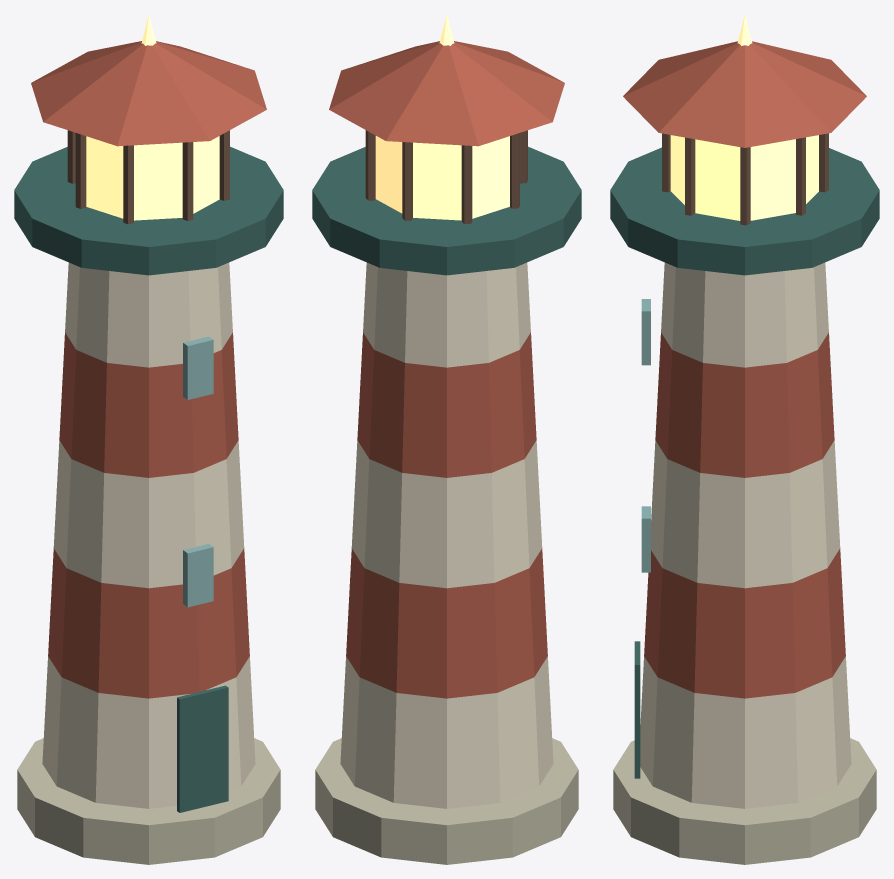
File: beacon.glb
The picture shows the model from 3 angles, left to right: view 1: azimuth 30°, elevation 25°; view 2: azimuth 150°, elevation 25°; view 3: azimuth 270°, elevation 25°; orthographic projection.
Visible parts, largest first — view 1: Lighthouse band_1, Lighthouse band_2, Balcony platform, Lighthouse band_3, Lantern roof, Lighthouse band_0, Octagonal base, Lighthouse band_4, Lantern glass, Tower door, Tower window, Tower window.001 (+4 smaller); view 2: Lighthouse band_0, Lighthouse band_1, Lighthouse band_2, Lighthouse band_3, Balcony platform, Lantern roof, Octagonal base, Lighthouse band_4, Lantern glass, Lantern post.003, Lantern post.002, Lantern post.001 (+1 smaller); view 3: Lighthouse band_0, Lighthouse band_1, Lighthouse band_2, Lighthouse band_3, Balcony platform, Lantern roof, Octagonal base, Lighthouse band_4, Lantern glass, Tower door, Lantern post, Lantern post.007 (+5 smaller).
Boxes of the visible parts, x1=… form: Lighthouse band_1: x1=48, y1=548, x2=249, y2=698; Lighthouse band_2: x1=53, y1=440, x2=244, y2=588; Balcony platform: x1=14, y1=146, x2=283, y2=275; Lighthouse band_3: x1=59, y1=332, x2=238, y2=477; Lantern roof: x1=31, y1=41, x2=266, y2=146; Lighthouse band_0: x1=42, y1=656, x2=255, y2=808; Octagonal base: x1=17, y1=738, x2=280, y2=864; Lighthouse band_4: x1=65, y1=262, x2=232, y2=367; Lantern glass: x1=86, y1=136, x2=219, y2=220; Tower door: x1=177, y1=685, x2=228, y2=812; Tower window: x1=183, y1=544, x2=213, y2=607; Tower window.001: x1=183, y1=336, x2=213, y2=399; Lighthouse band_0: x1=340, y1=656, x2=553, y2=808; Lighthouse band_1: x1=346, y1=548, x2=547, y2=698; Lighthouse band_2: x1=351, y1=440, x2=542, y2=588; Lighthouse band_3: x1=357, y1=332, x2=536, y2=477; Balcony platform: x1=312, y1=146, x2=581, y2=275; Lantern roof: x1=329, y1=41, x2=564, y2=146; Octagonal base: x1=315, y1=738, x2=578, y2=864; Lighthouse band_4: x1=363, y1=262, x2=530, y2=367; Lantern glass: x1=375, y1=136, x2=509, y2=220; Lantern post.003: x1=461, y1=145, x2=472, y2=223; Lantern post.002: x1=402, y1=142, x2=412, y2=220; Lantern post.001: x1=365, y1=130, x2=375, y2=200; Lighthouse band_0: x1=640, y1=656, x2=851, y2=808; Lighthouse band_1: x1=644, y1=548, x2=845, y2=698; Lighthouse band_2: x1=651, y1=440, x2=840, y2=588; Lighthouse band_3: x1=655, y1=332, x2=834, y2=477; Balcony platform: x1=610, y1=147, x2=879, y2=275; Lantern roof: x1=623, y1=41, x2=866, y2=147; Octagonal base: x1=613, y1=738, x2=876, y2=864; Lighthouse band_4: x1=661, y1=262, x2=828, y2=367; Lantern glass: x1=670, y1=135, x2=818, y2=220; Tower door: x1=634, y1=641, x2=640, y2=778; Lantern post: x1=740, y1=147, x2=750, y2=225; Lantern post.007: x1=685, y1=137, x2=695, y2=215.
Size of the model in its own units: 0.86 by 2.8 by 0.86.
